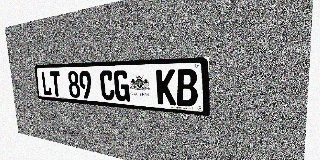8: (67, 71, 80, 98)
9: (79, 71, 92, 99)
B: (176, 69, 198, 107)
C: (99, 70, 115, 101)
G: (113, 70, 130, 102)
K: (156, 69, 176, 105)
L: (41, 71, 52, 96)
T: (50, 71, 62, 97)
